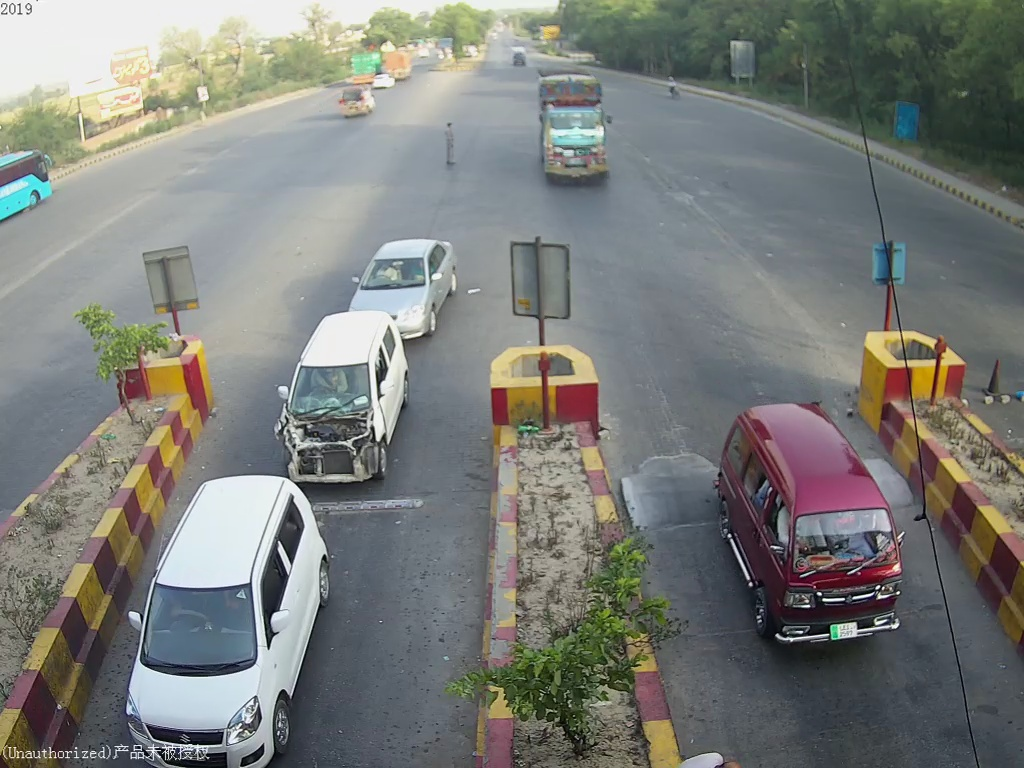Cat-1: (112, 476, 340, 748), (717, 403, 924, 666), (274, 309, 390, 478), (348, 221, 453, 328)
Cat-4: (541, 62, 612, 181)
